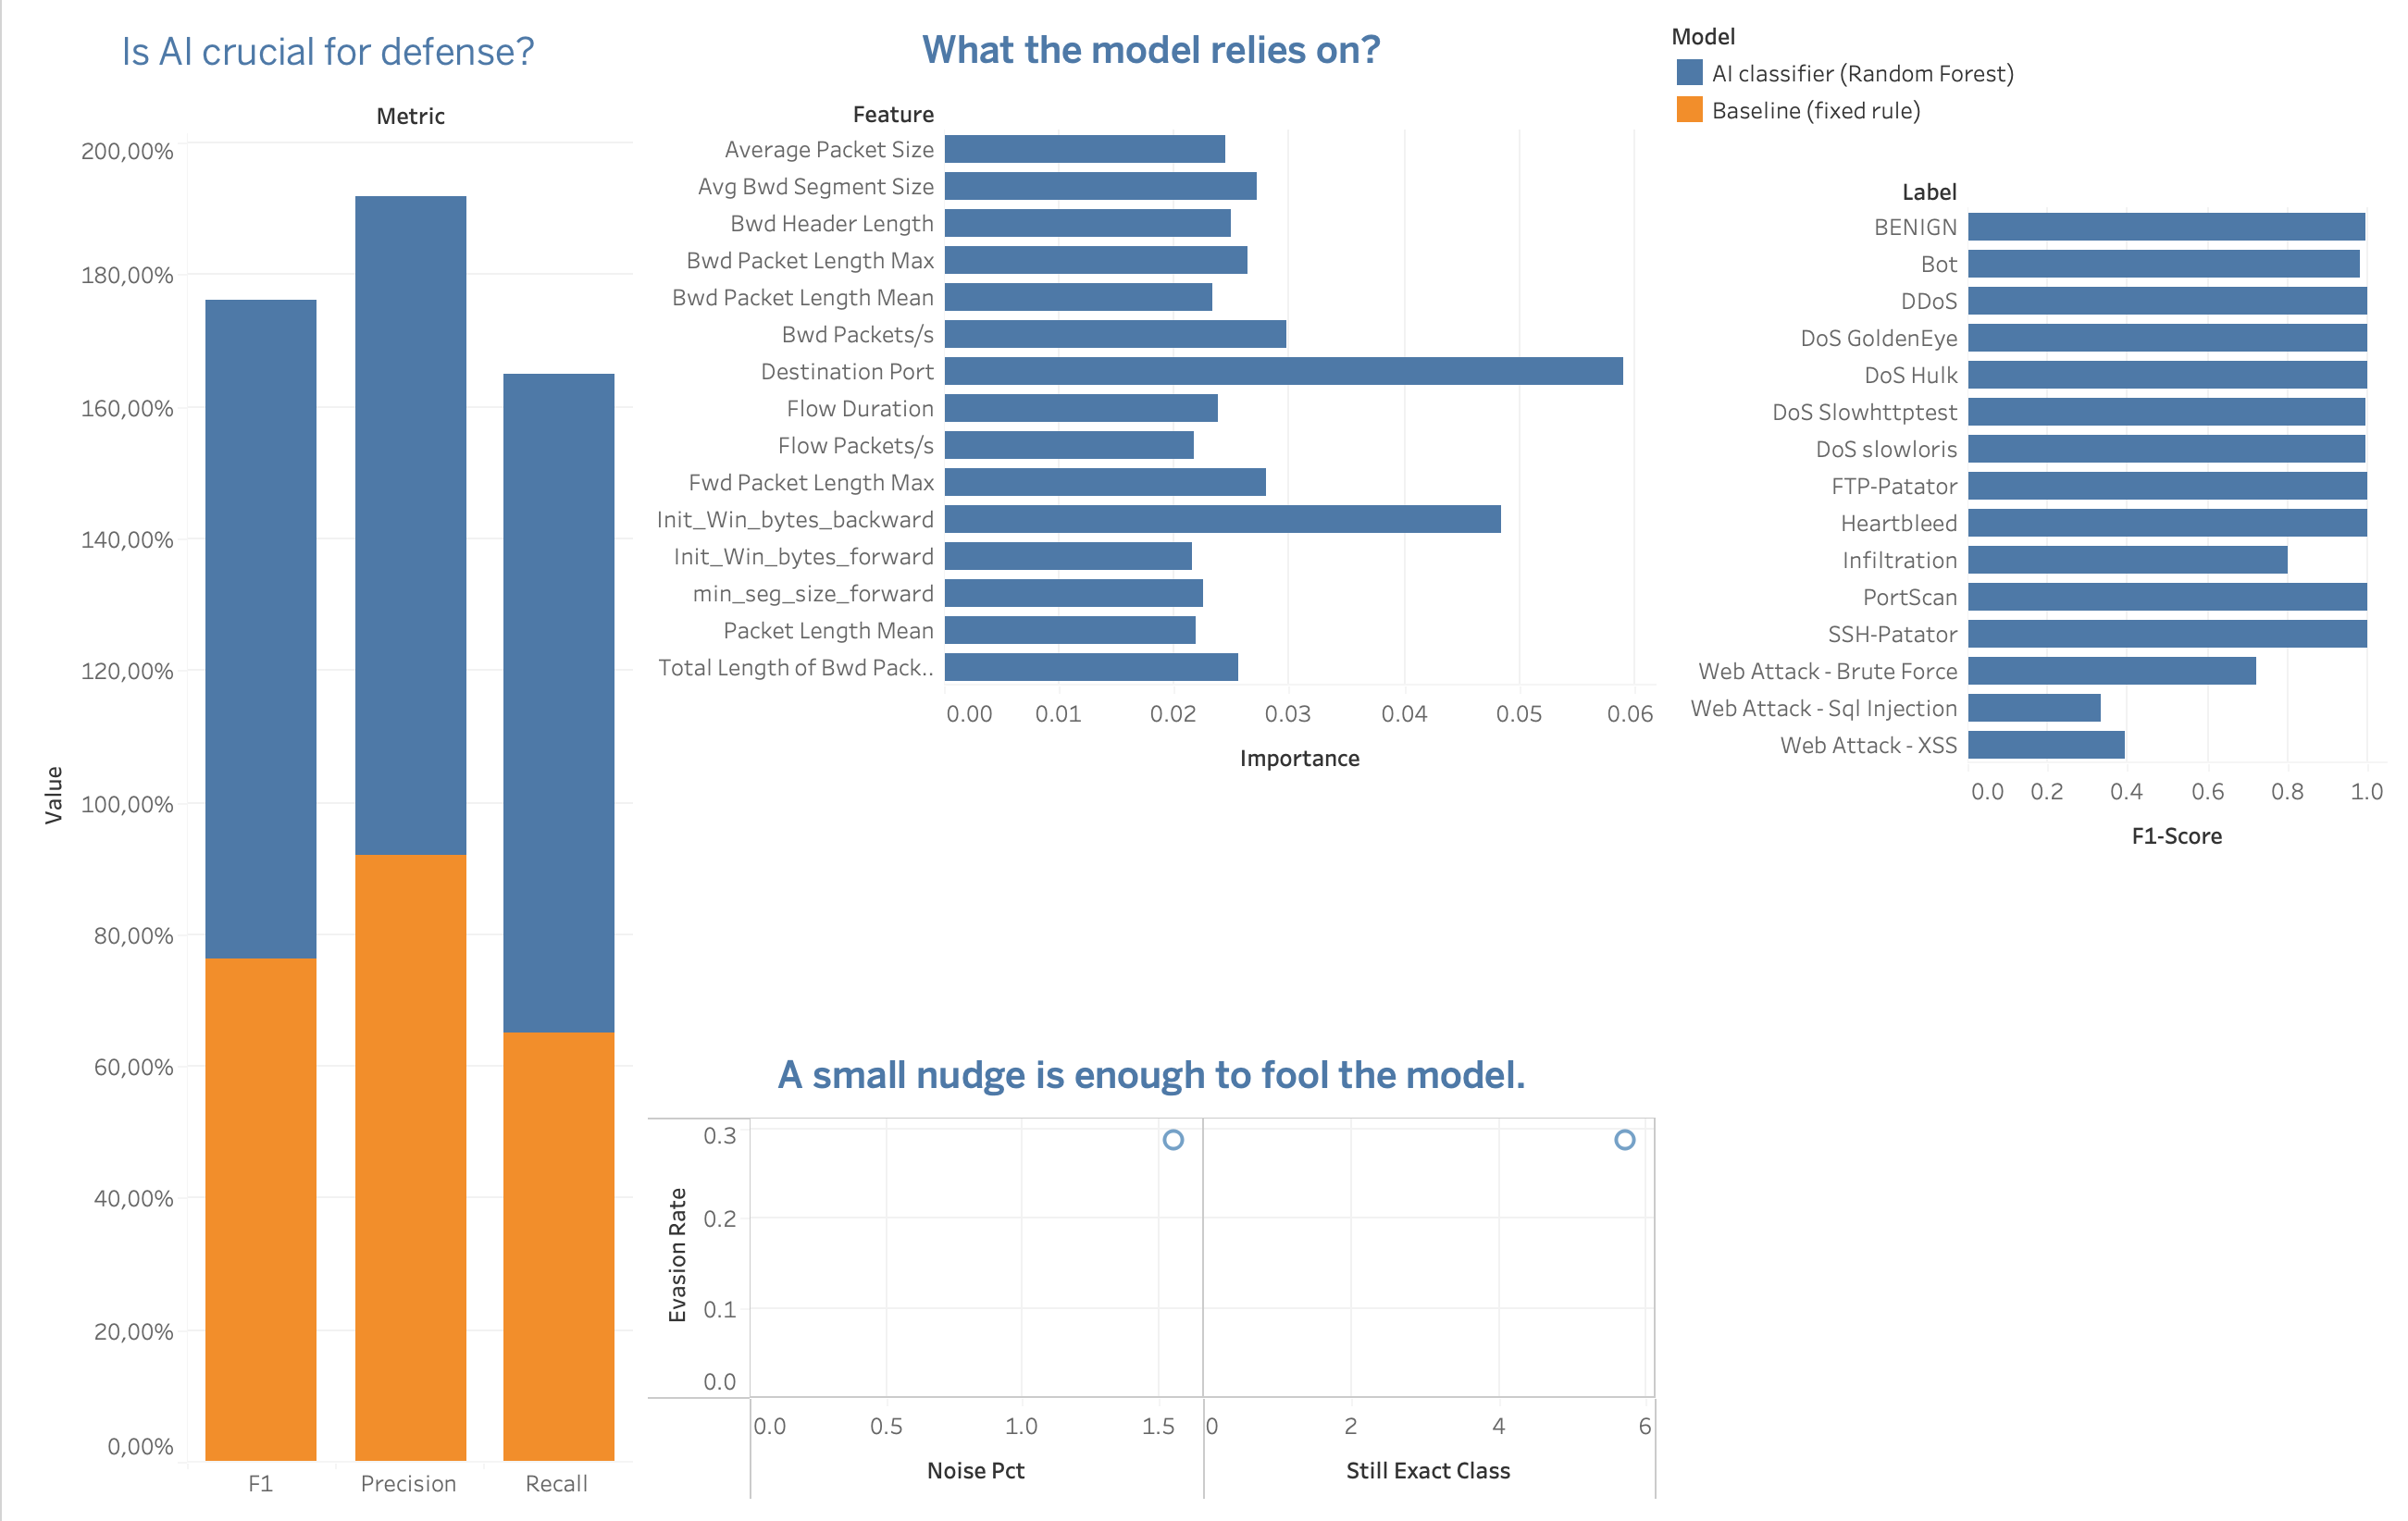

This screenshot's page, from the dashboard's own definition file:
{"tool":"tableau","page":{"name":"Dashboard 1","canvas":[1000,1000],"units":"permille","ordinal":0},"visuals":[{"type":"worksheet","title":"Sheet 1","mark":"Automatic","rows":["Value"],"cols":["Metric"],"box":[6.2,9.4,259,981.2]},{"type":"worksheet","title":"Sheet 3","mark":"Automatic","rows":["feature"],"cols":["importance"],"box":[265.2,9.4,425.1,672.7]},{"type":"legend","title":"Sheet 1","param":"[federated.0zqcbrt1ywhc1k18xhqx31d2cg2l].[none:Model:nk]","box":[690.2,9.4,303.6,77.4]},{"type":"worksheet","title":"Sheet 2","mark":"Automatic","rows":["Label"],"cols":["f1-score"],"box":[690.2,86.8,303.6,466.6]},{"type":"worksheet","title":"Sheet 4","mark":"Automatic","rows":["evasion_rate"],"cols":["noise_pct","still_exact_class"],"box":[265.2,682.1,425.1,308.5]}]}

Visuals, with their boxes on the dashboard's canvas, which has no fixed pixel size, in thousandths of its width and height (x1, y1, x2, y2). These are canvas units, not pixel positions in the 2408x1521 screenshot, which may show the page scaled, cropped or inside an application window:
"Sheet 1" worksheet: box=[6, 9, 265, 991]
"Sheet 3" worksheet: box=[265, 9, 690, 682]
"Sheet 1" legend: box=[690, 9, 994, 87]
"Sheet 2" worksheet: box=[690, 87, 994, 553]
"Sheet 4" worksheet: box=[265, 682, 690, 991]
